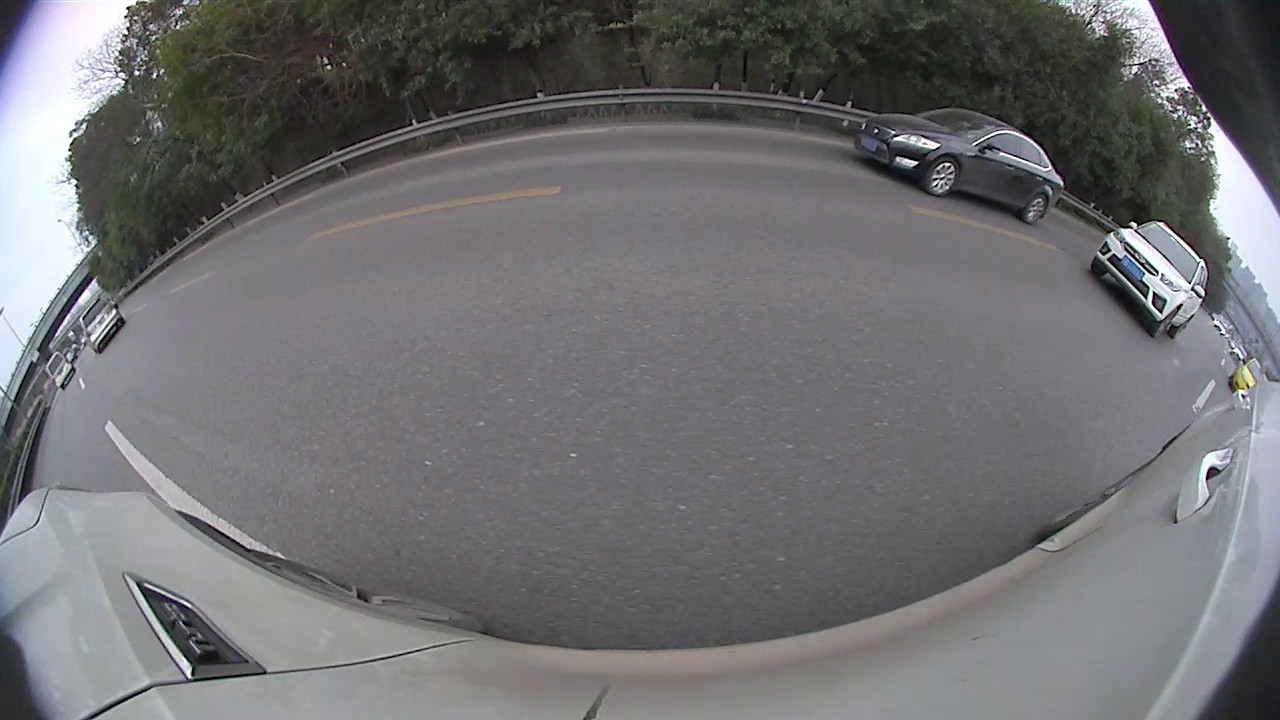car: (853, 105, 1066, 227), (1089, 217, 1211, 341), (77, 295, 127, 356), (1227, 357, 1272, 394), (43, 350, 77, 391)
front: (926, 155, 961, 196), (1154, 308, 1178, 339)
rear: (1024, 193, 1047, 226)
